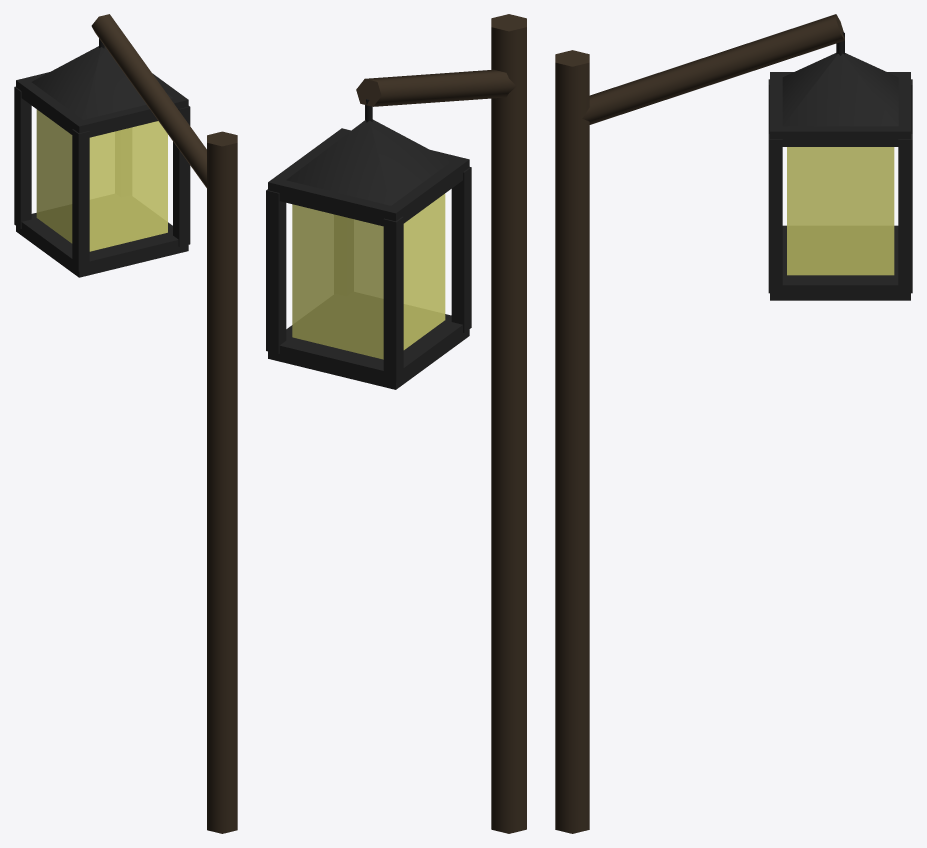
Rendered from back_lantern.glb.
The picture shows the model from 3 angles, left to right: view 1: azimuth 30°, elevation 25°; view 2: azimuth 150°, elevation 25°; view 3: azimuth 270°, elevation 25°; orthographic projection. The views are drawn at different scales.
Visible parts, largest first — view 1: Back; view 2: Back; view 3: Back.
Boxes of the visible parts, x1,y1,x2,y2 form: Back: (14, 14, 237, 833); Back: (266, 14, 526, 833); Back: (555, 14, 912, 833).
Bounding box in the file's own units: 0.153 × 0.9486 × 0.3797.
